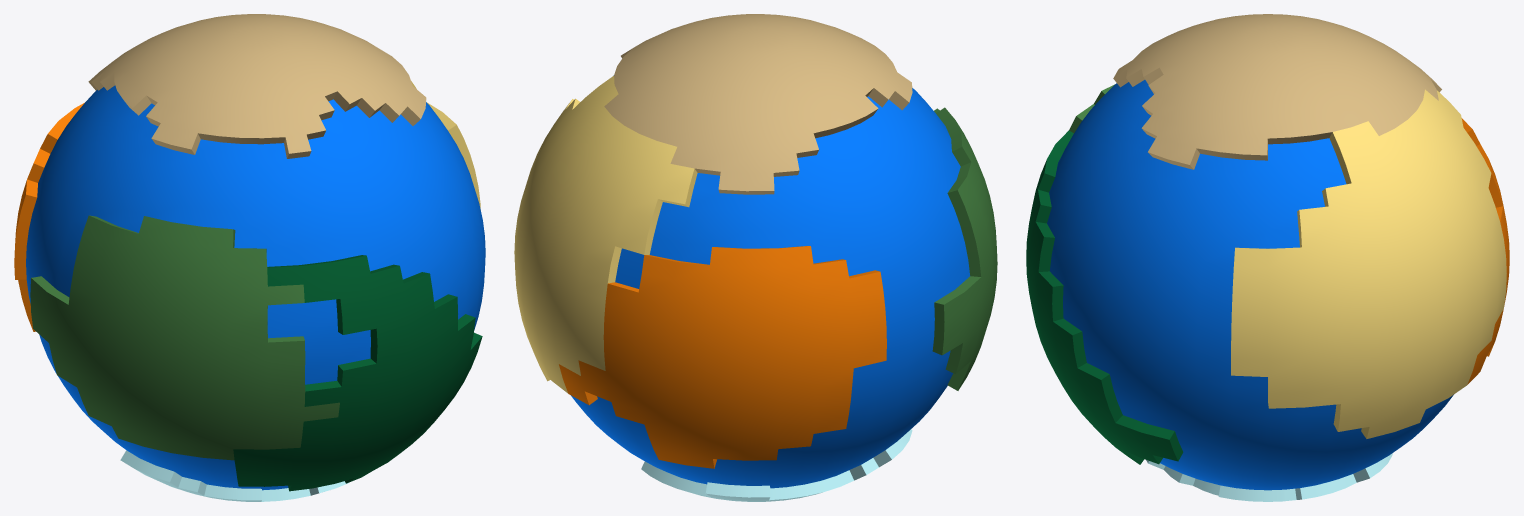
The model's file is Planet_blocking.fbx.
3 views of the same model, side by side, from view 1: azimuth 30°, elevation 25°; view 2: azimuth 150°, elevation 25°; view 3: azimuth 270°, elevation 25° (orthographic).
Visible parts, largest first — view 1: pSphere1; view 2: pSphere1; view 3: pSphere1.
Part boxes in pixels (x1,y1,x2,y2): pSphere1: (14,14,485,501); pSphere1: (514,14,997,501); pSphere1: (1026,14,1509,501).
Size of the model in its own units: 207 by 210 by 207.
